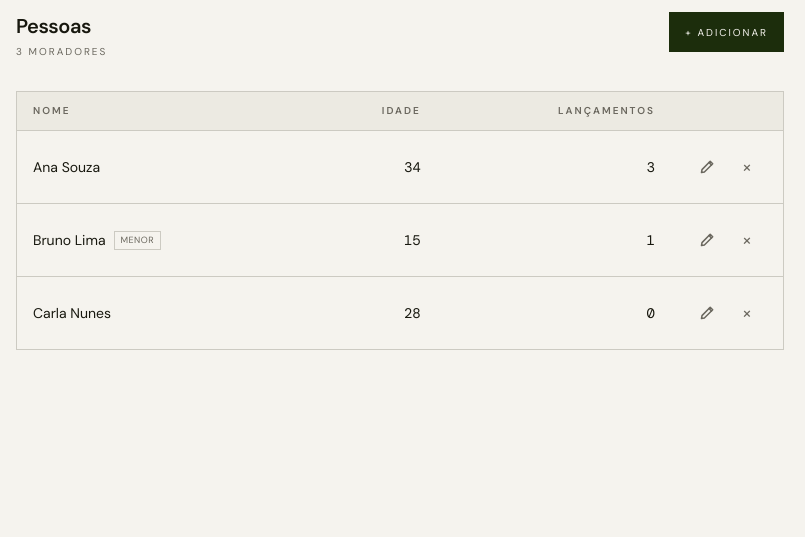
pessoas › recusa idade fora da faixa permitida
Expected: the text "Ana Souza" is shown, [33,158,100,176]
Click the button "+ Adicionar" at {"x": 727, "y": 32}, box [669,12,784,52]
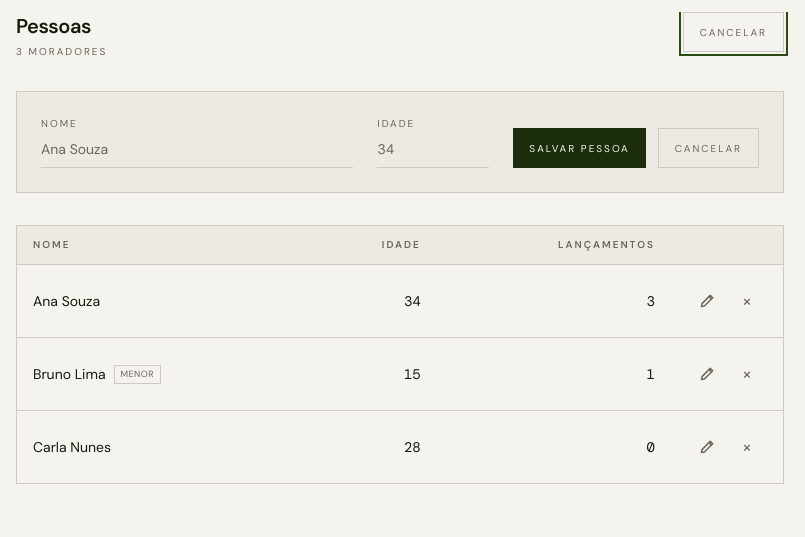
Type "Diego Alves" into the field labelled "Nome" at {"x": 197, "y": 150}, box [41,131,353,168]
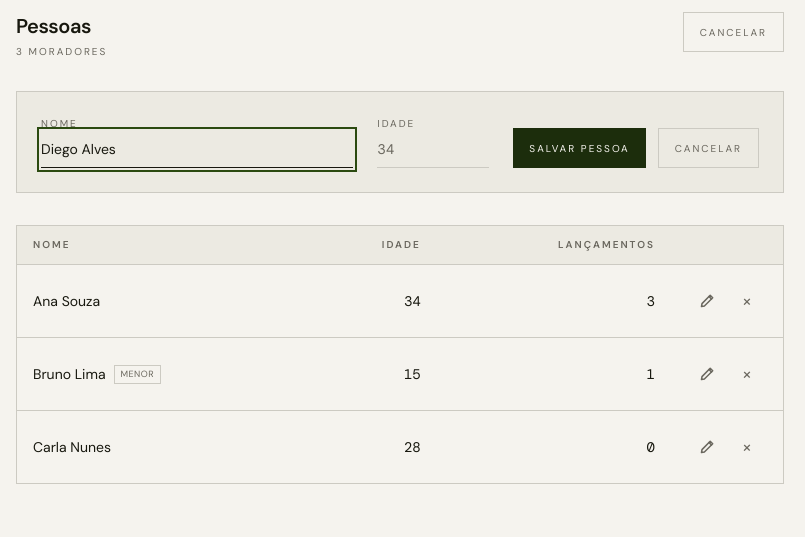
Type "200" into the number field labelled "Idade" at {"x": 433, "y": 150}, box [377,131,489,168]
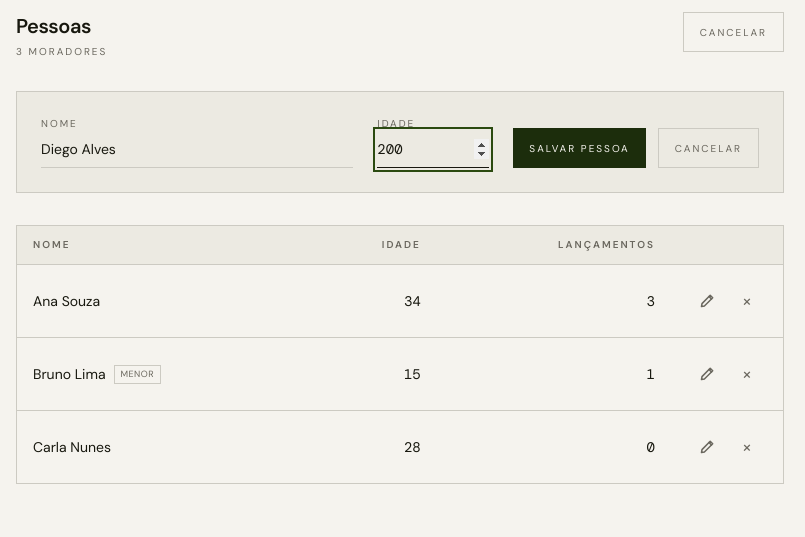
Click the button "Salvar pessoa" at {"x": 580, "y": 148}, box [513,128,646,168]
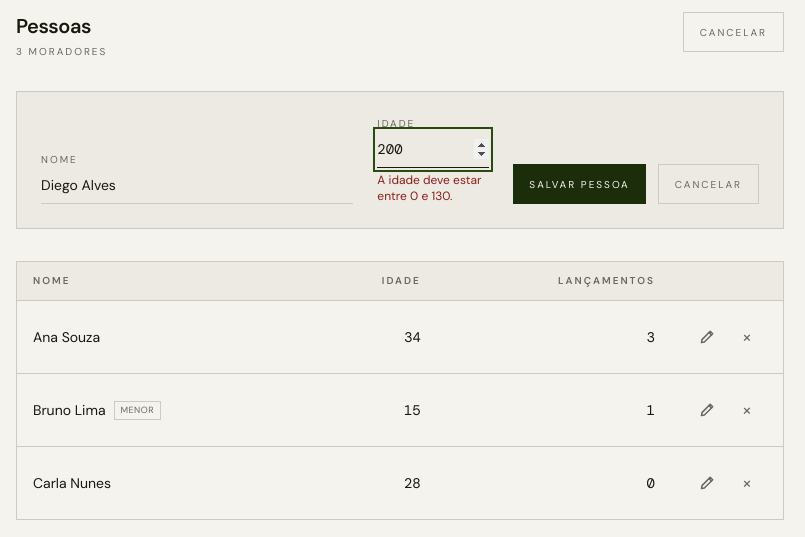
Expected: the text "A idade deve estar entre 0 e 130." is shown, [377,172,489,204]
